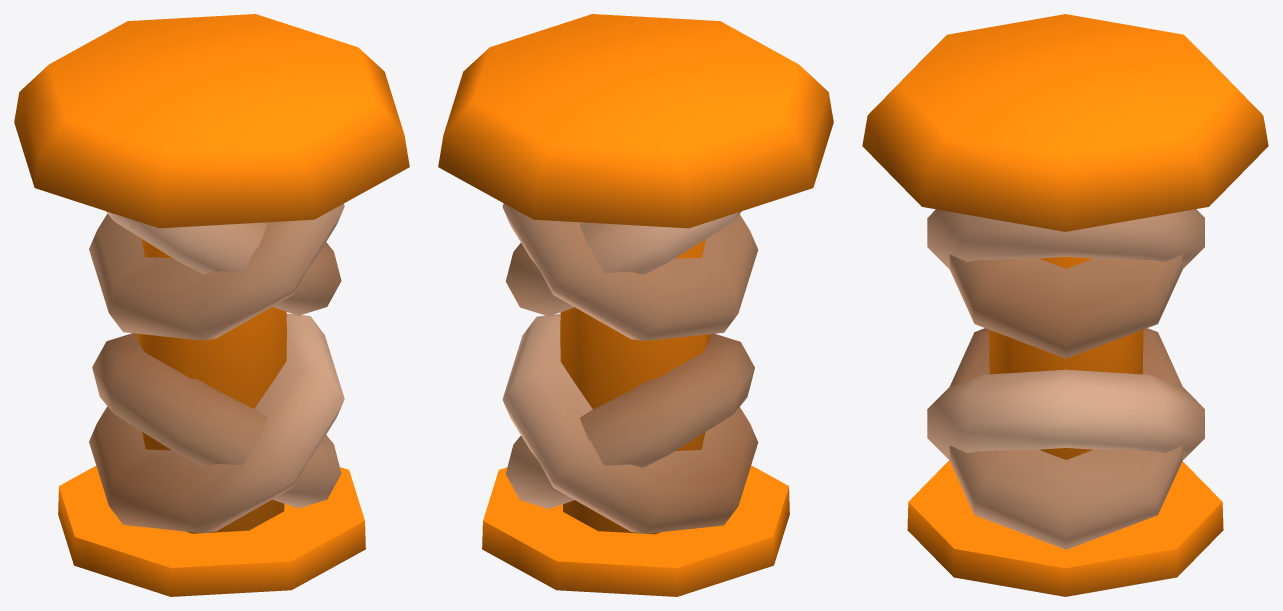
File: bronze_grip_107.glb
The picture shows the model from 3 angles, left to right: view 1: azimuth 30°, elevation 25°; view 2: azimuth 150°, elevation 25°; view 3: azimuth 270°, elevation 25°; orthographic projection.
Parts seen in each view (by area): view 1: bronze_grip_107; view 2: bronze_grip_107; view 3: bronze_grip_107.
Part boxes in pixels (x1,y1,x2,y2): bronze_grip_107: (14,14,409,596); bronze_grip_107: (438,14,833,596); bronze_grip_107: (862,14,1268,596).
Bounding box in the file's own units: 2.62 × 3.16 × 2.62.
1 material, 1 textured.
